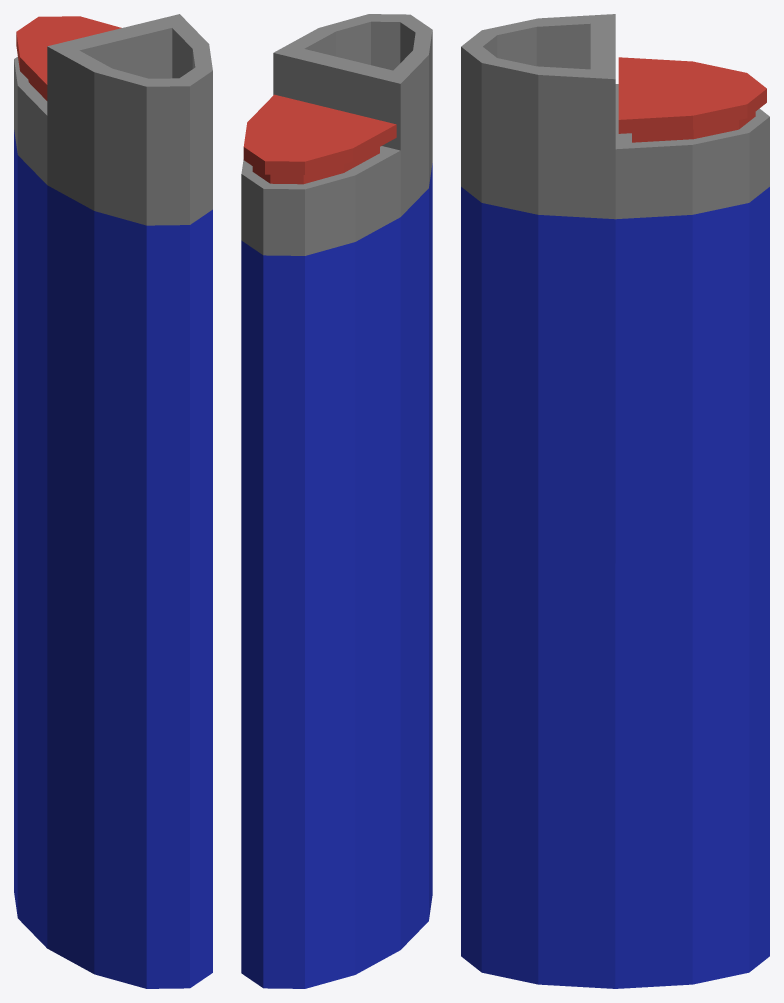
Rendered from Lighter.fbx.
The picture shows the model from 3 angles, left to right: view 1: azimuth 30°, elevation 25°; view 2: azimuth 150°, elevation 25°; view 3: azimuth 270°, elevation 25°; orthographic projection. The views are drawn at different scales.
Visible parts, largest first — view 1: Lighter; view 2: Lighter; view 3: Lighter.
Part boxes in pixels (left/top/right/bottom): Lighter: left=14, top=14, right=212, bottom=988; Lighter: left=241, top=14, right=432, bottom=988; Lighter: left=461, top=14, right=769, bottom=988.
Size of the model in its own units: 0.08 by 0.52 by 0.16.
